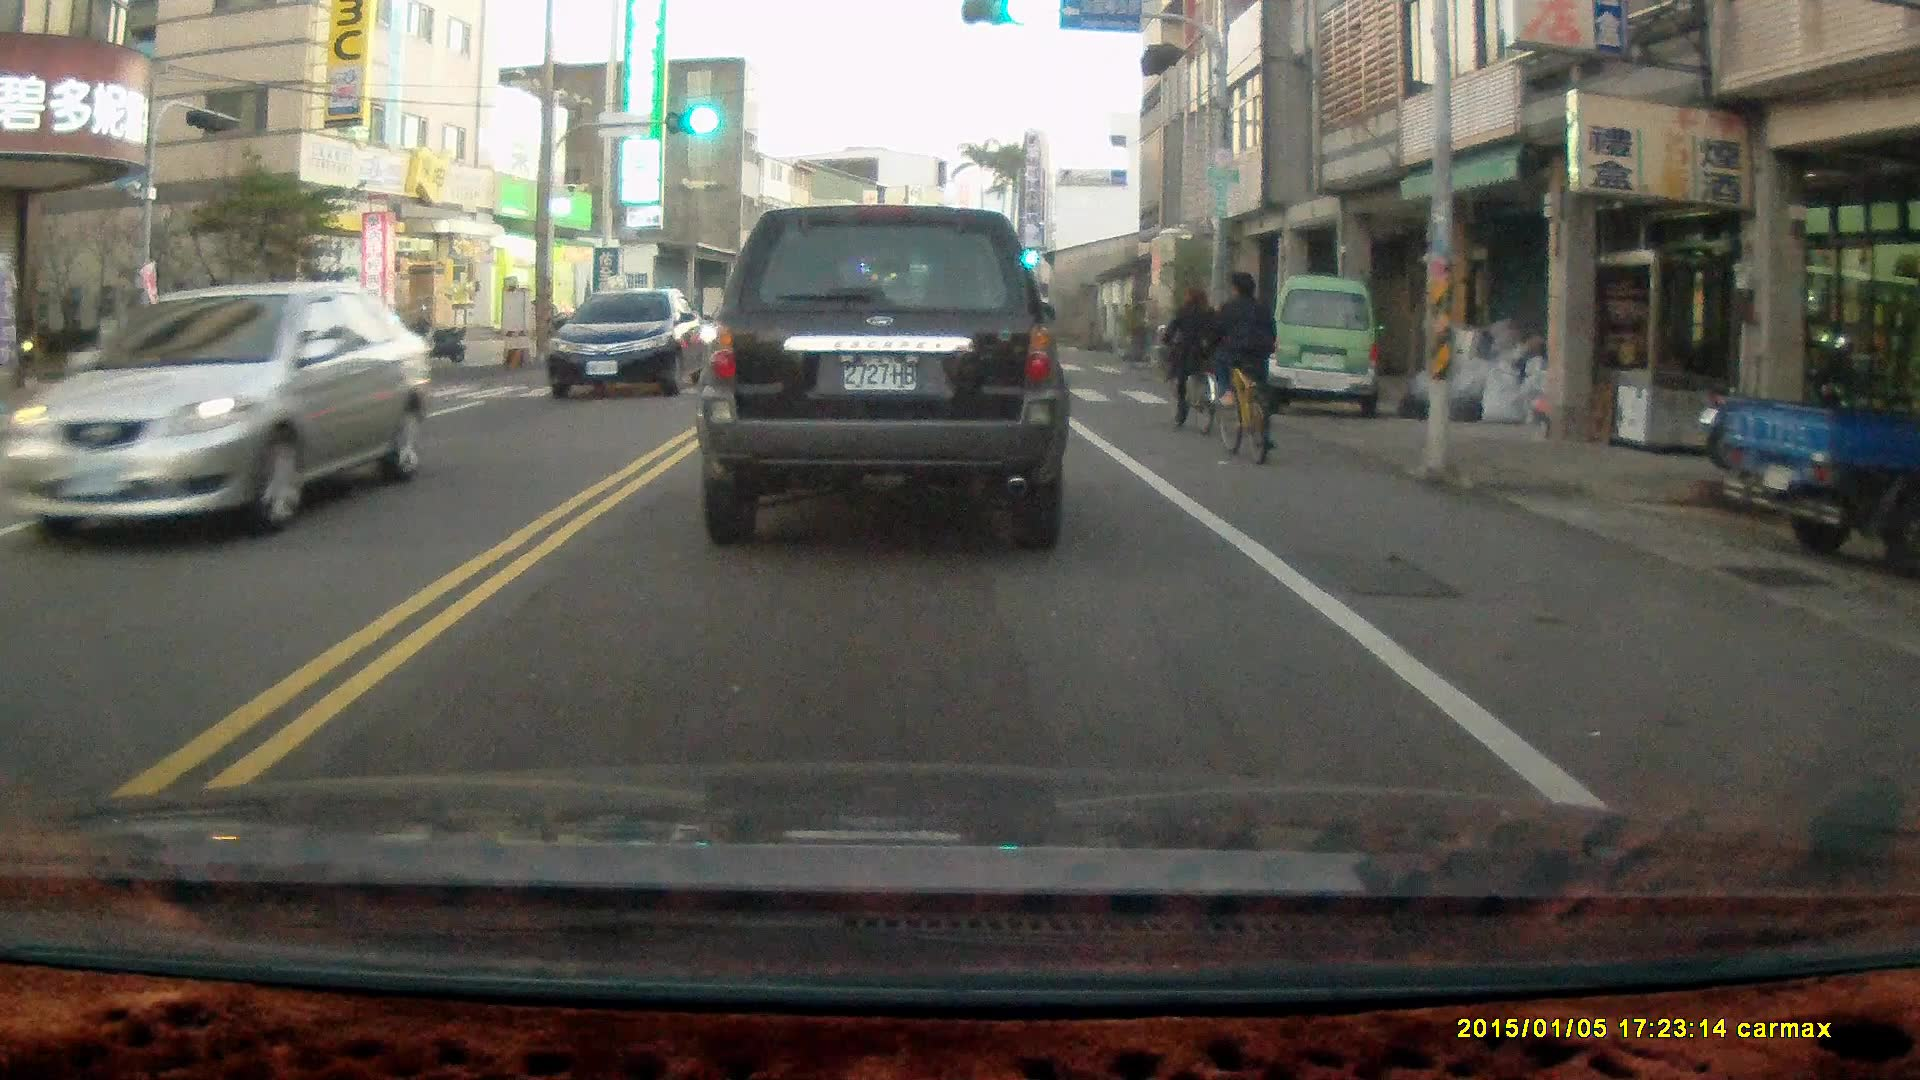rider: (1199, 266, 1275, 462), (1156, 279, 1221, 437)
vehicle: (699, 200, 1071, 545), (5, 284, 427, 548), (546, 285, 711, 404), (1266, 273, 1383, 422)
